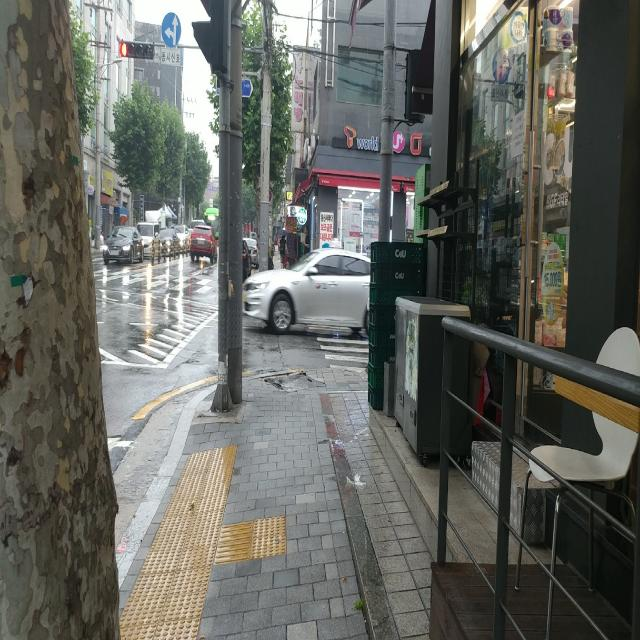횡단보도: (306, 323, 369, 373), (98, 272, 213, 296)
